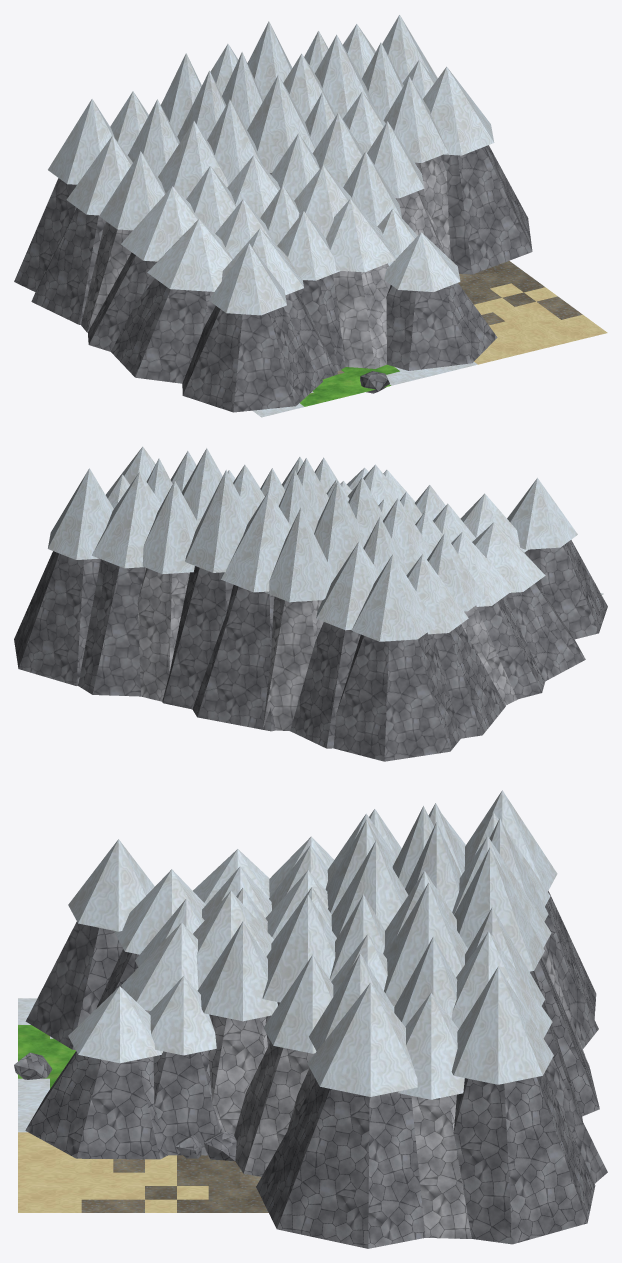
File: chunk_11_0.glb
3 views of the same model, one above another, from view 1: azimuth 30°, elevation 25°; view 2: azimuth 150°, elevation 25°; view 3: azimuth 270°, elevation 25° (orthographic). The views are drawn at different scales.
Parts seen in each view (by area): view 1: chunk_11_0; view 2: chunk_11_0; view 3: chunk_11_0.
Boxes of the visible parts, <box> form: chunk_11_0: <box>14,15,607,417</box>; chunk_11_0: <box>14,446,607,761</box>; chunk_11_0: <box>14,790,607,1248</box>.
Size of the model in its own units: 21.23 by 9.89 by 18.71.
Materials: 7 (7 with a texture image).
